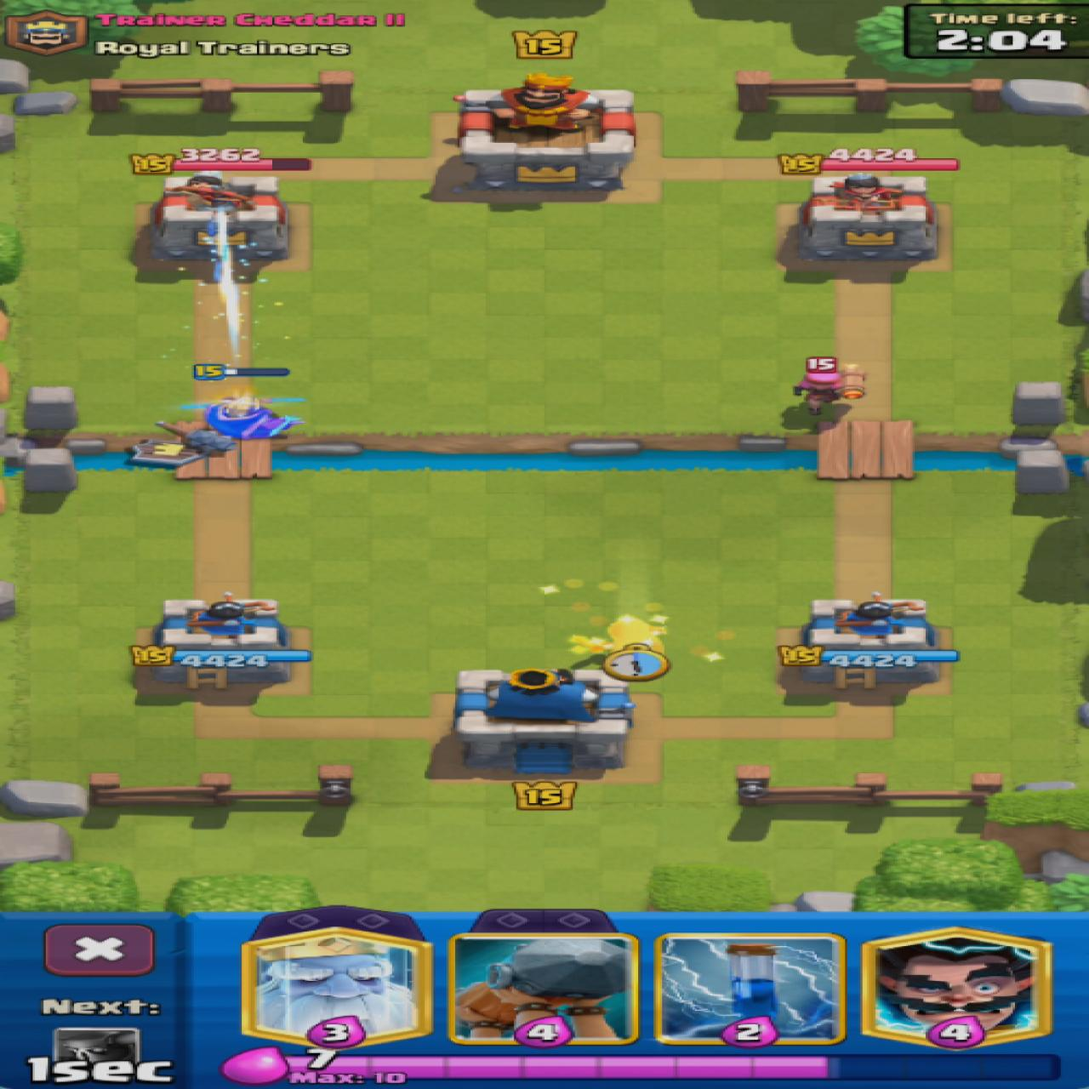Enemy-Firecracker: (791, 363, 870, 417)
Enemy-KingTower: (460, 76, 634, 194)
Enemy-PrincessTower: (797, 174, 937, 262), (148, 175, 287, 259)
